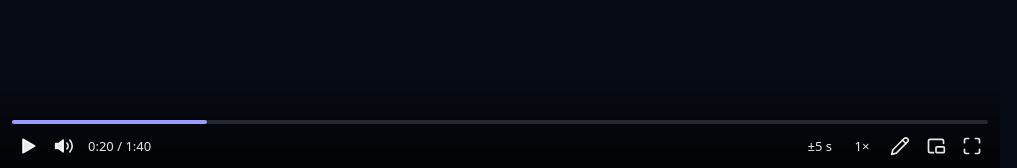
the seek-step chip shows the step, the menu sets it for every player and the arrows follow
Step 1. Click the button named "Seek step ← →" → click(820, 146), box [800, 130, 840, 162]
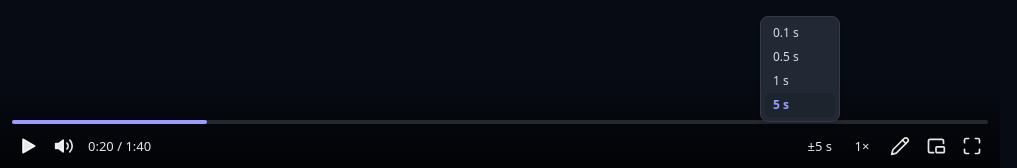
Step 2. Click the menu item "0.5 s" → click(800, 57), box [765, 45, 835, 69]
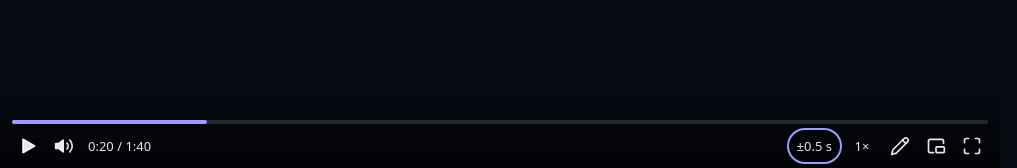
Check: the menu is gone
Check: the button named "Seek step ← →" reads "±0.5 s", box [789, 130, 840, 162]
